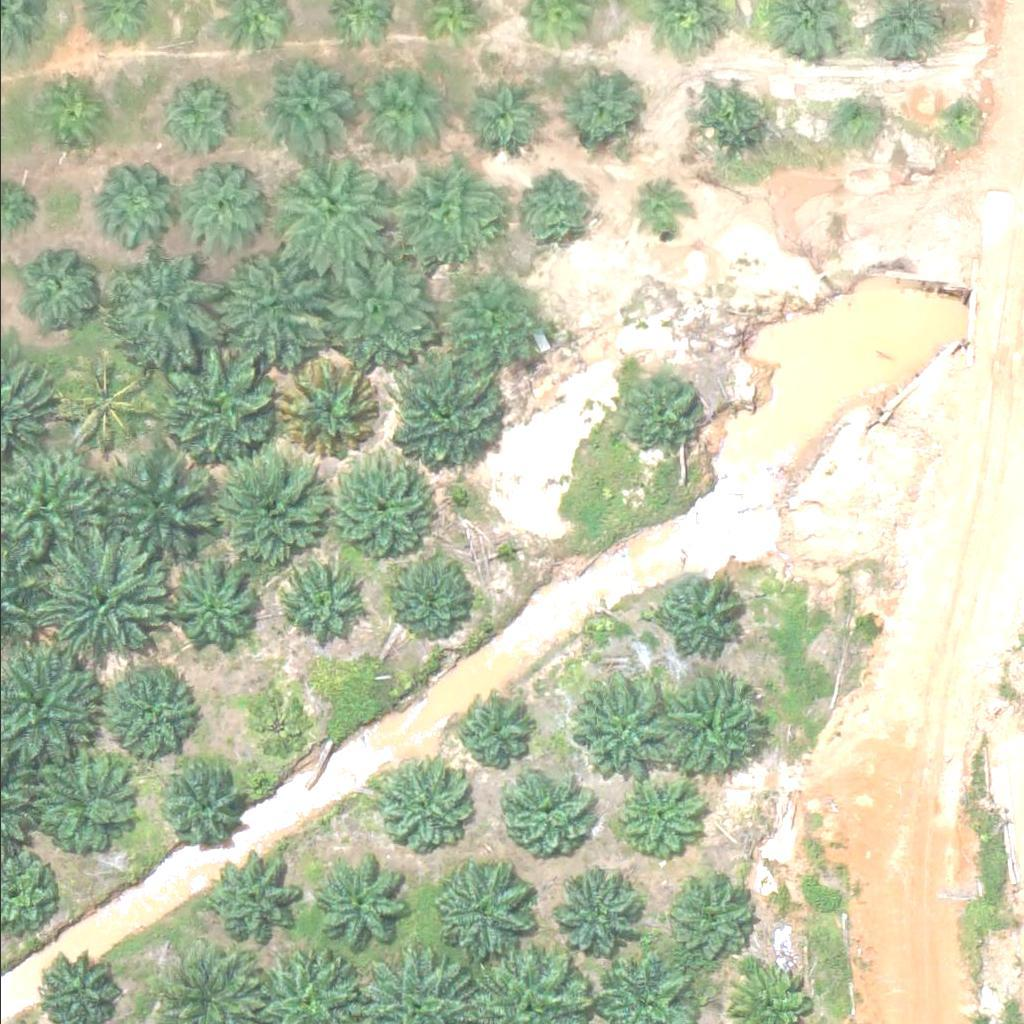Kelapa_Sawit: (272, 148, 398, 273), (387, 351, 513, 476), (153, 345, 279, 470), (206, 248, 332, 373), (100, 245, 226, 370), (211, 447, 337, 572), (37, 531, 163, 656), (308, 240, 433, 365), (96, 446, 221, 571), (51, 346, 165, 459), (271, 353, 384, 466), (18, 743, 131, 856), (436, 265, 550, 377), (320, 454, 434, 566), (385, 155, 498, 267), (172, 162, 273, 262), (313, 853, 414, 953), (206, 852, 307, 952), (570, 680, 671, 780), (663, 676, 764, 776), (168, 555, 269, 655), (93, 658, 194, 758), (342, 54, 442, 154), (433, 858, 533, 958), (549, 68, 637, 156), (91, 160, 179, 248), (666, 879, 754, 967), (611, 772, 699, 860), (498, 769, 586, 857), (375, 761, 463, 849), (651, 571, 739, 659), (163, 760, 252, 847), (452, 72, 540, 159), (610, 370, 698, 457), (451, 689, 539, 776), (264, 63, 352, 150), (547, 873, 635, 960), (11, 240, 99, 327), (281, 563, 369, 650), (386, 558, 474, 645), (686, 76, 762, 151), (523, 178, 599, 253), (240, 689, 316, 764), (36, 76, 111, 151), (156, 85, 231, 160), (627, 183, 690, 245), (932, 95, 982, 145), (825, 91, 875, 141)
